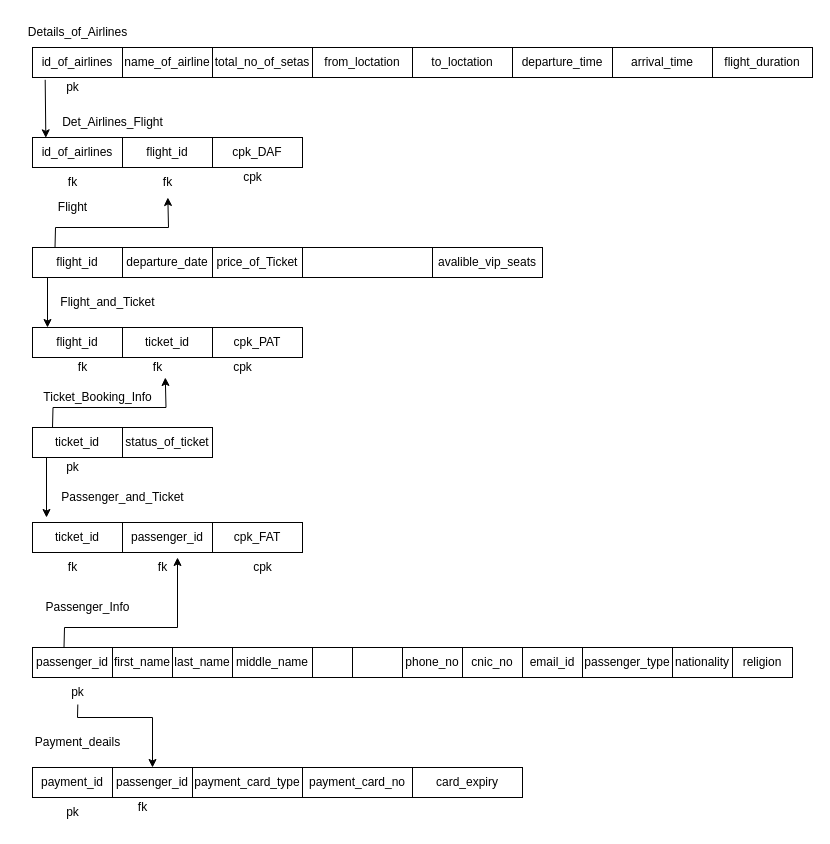
This 830x844 diagram has some shape labels left out. Here are the shapes that lost their labels. From the top down, the box of each, then its label:
(302, 246, 432, 278): avalible_ecnomy_seats
(312, 646, 352, 678): age
(352, 646, 402, 678): gender
